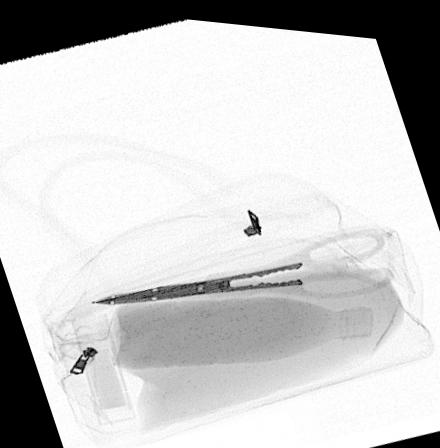Scissors: (88, 218, 395, 303)
